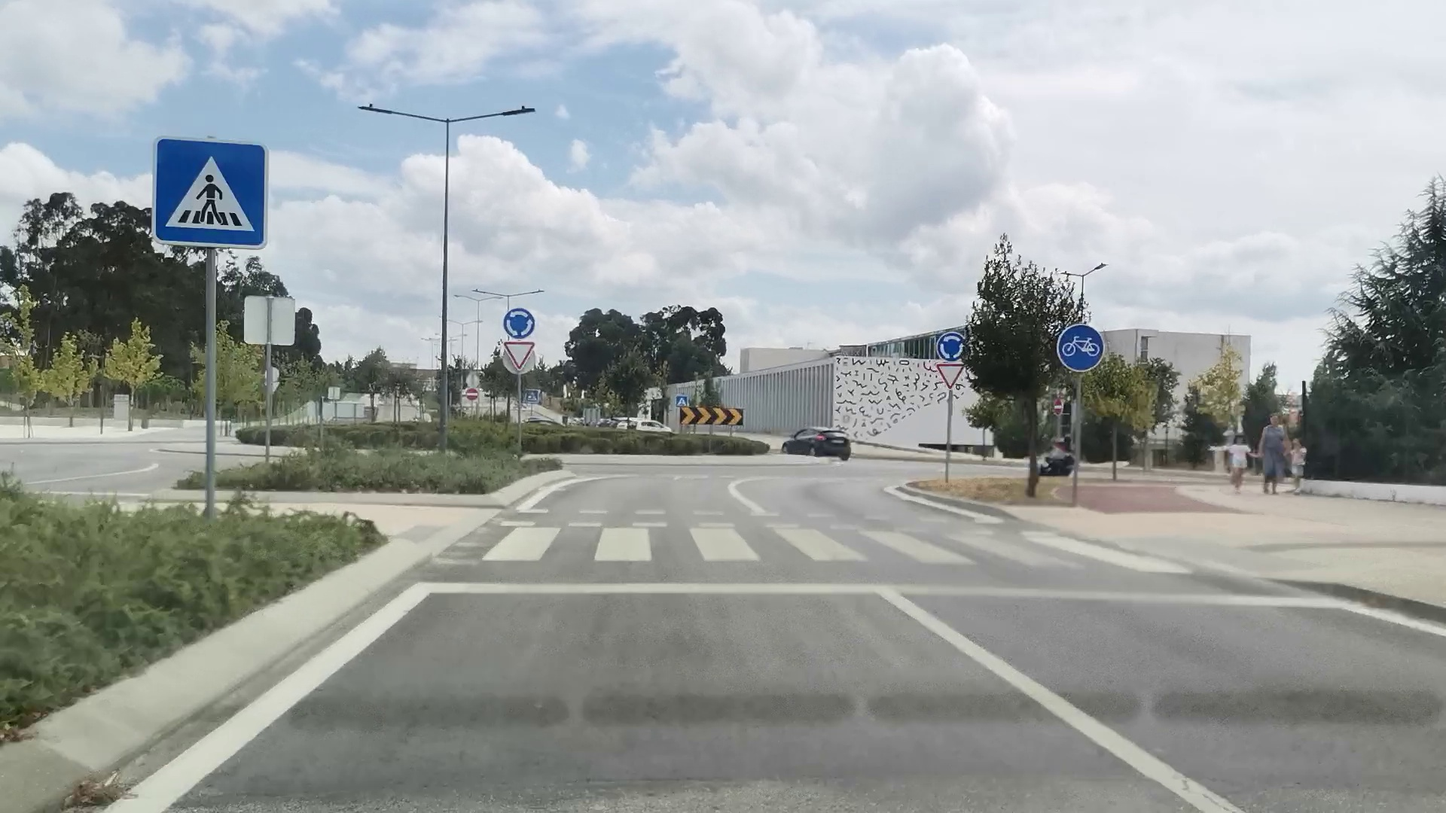Stairs: (476, 526, 1194, 573)
